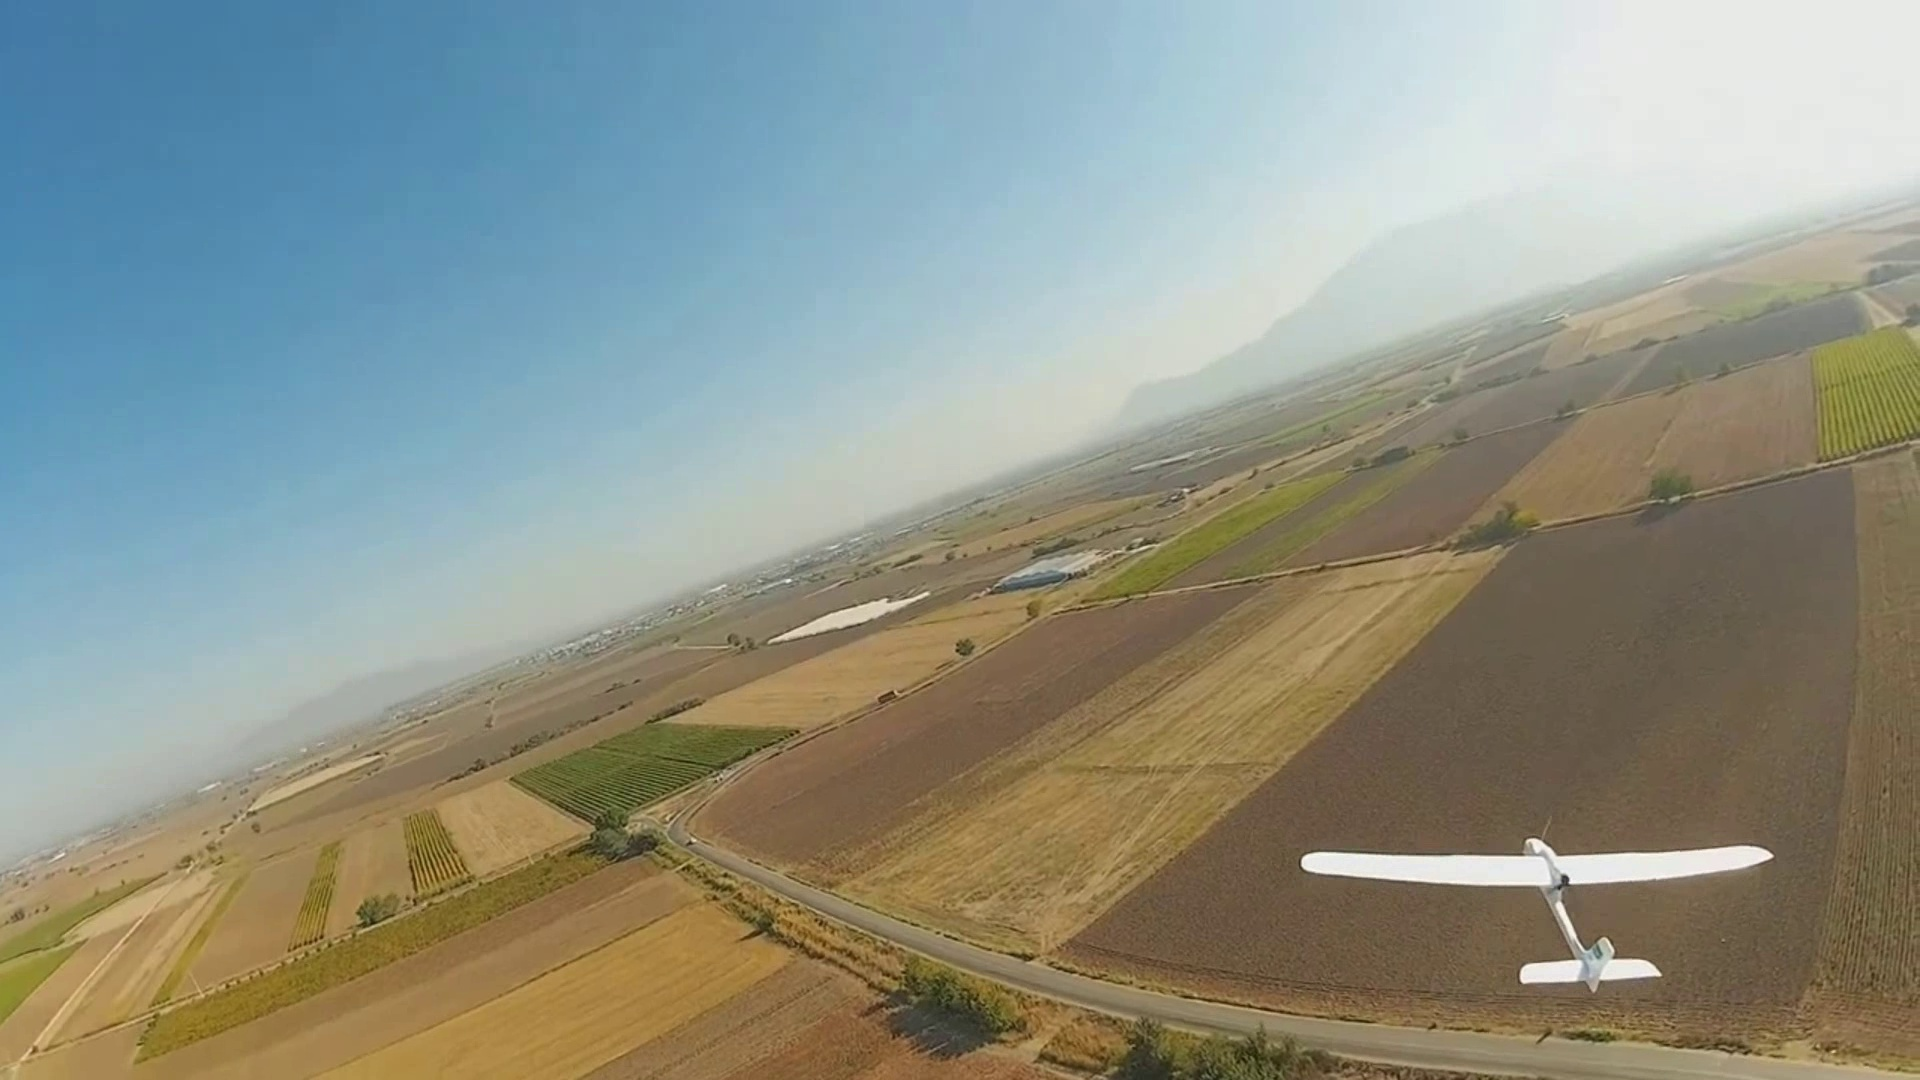airplane: (1298, 833, 1774, 993)
